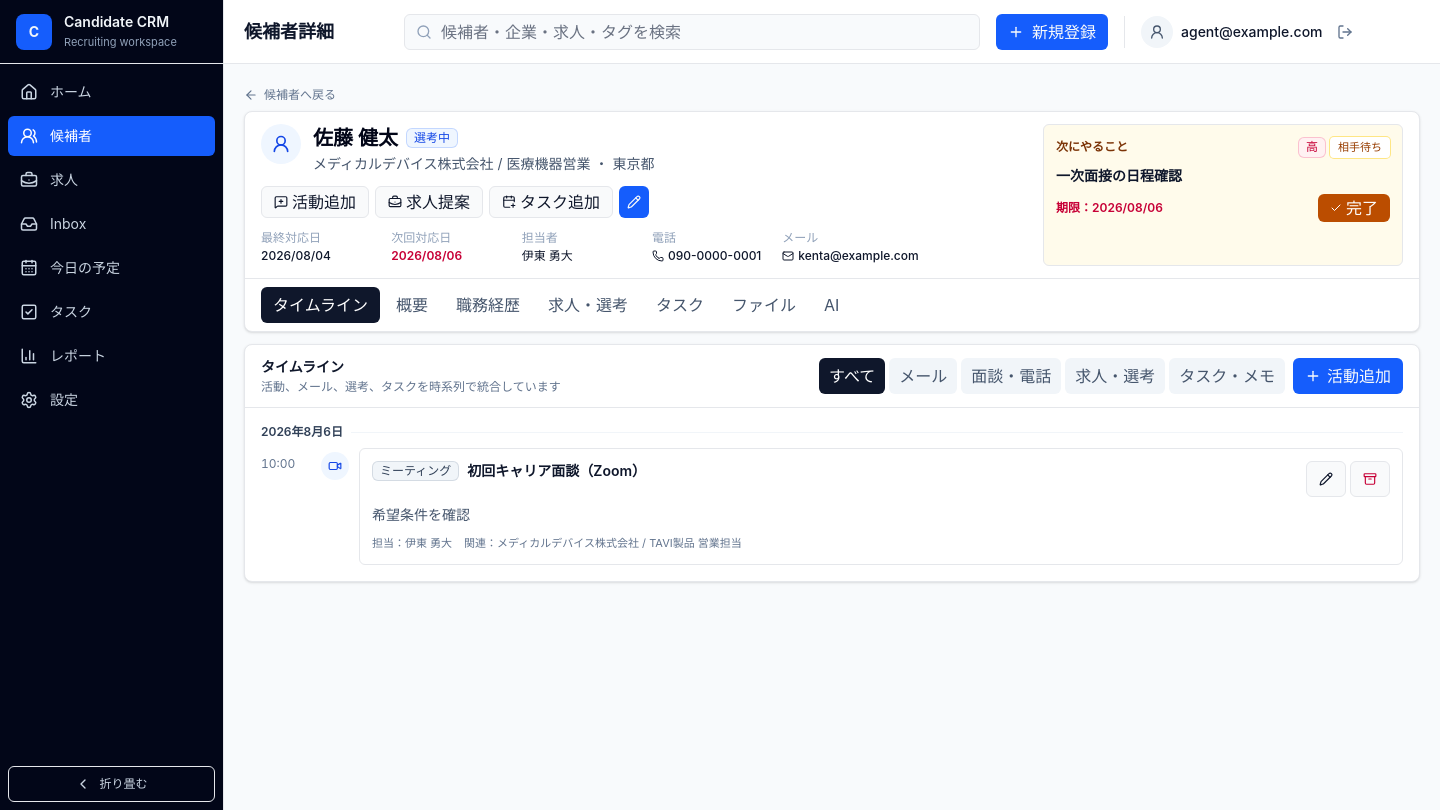
Test: Candidate CRM Phase 2.5 routes › 候補者サマリーから求人提案フォームを開ける
This screenshot has width=1440, height=810.
What coordinates should you click on to do the following:
click the button "求人提案"
I would click on:
 (429, 202)
Its box is [375,186,483,218].
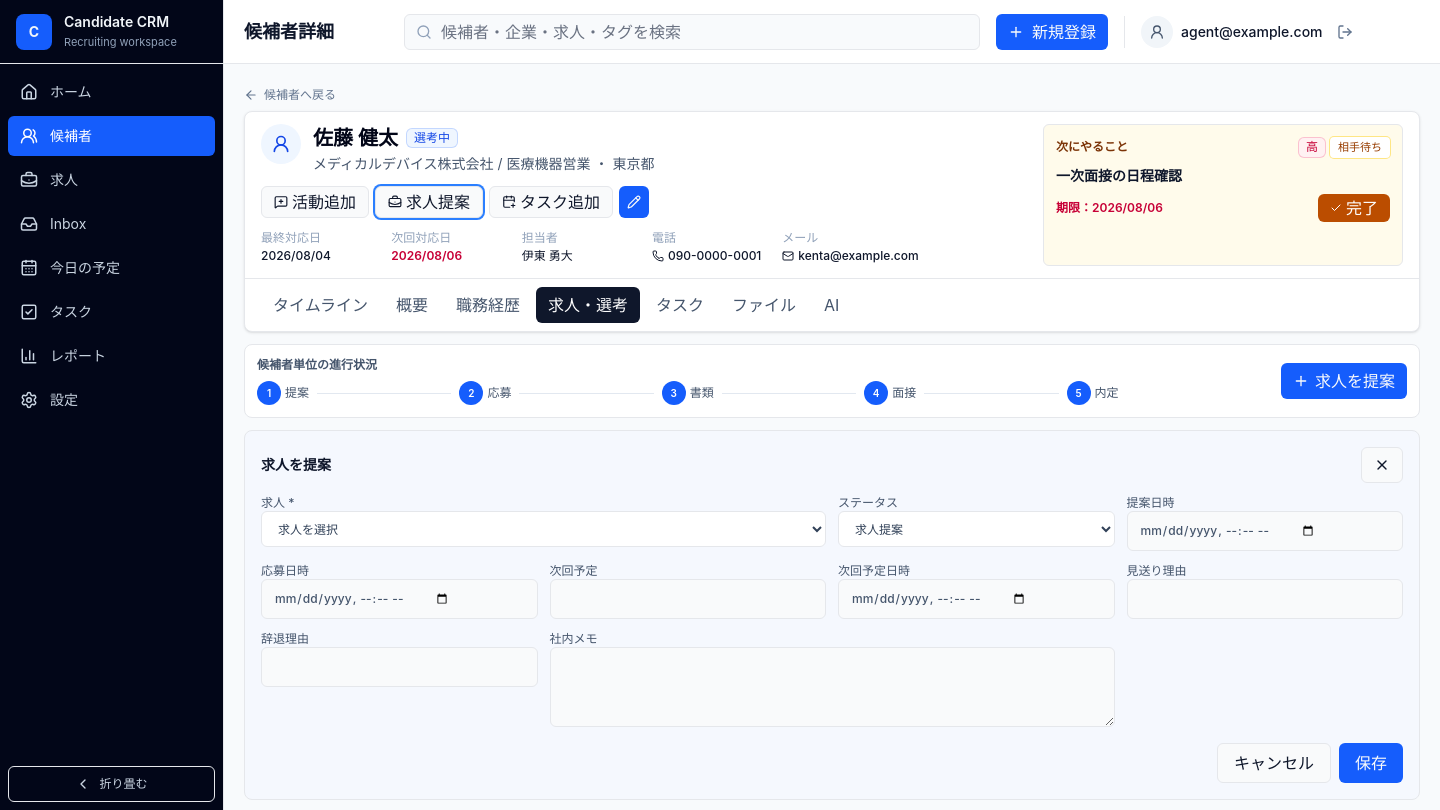
Check: the heading "求人を提案" is shown, box [261,455,331,475]
Check: the dropdown labelled "求人 *" is shown, box [261,511,826,547]
